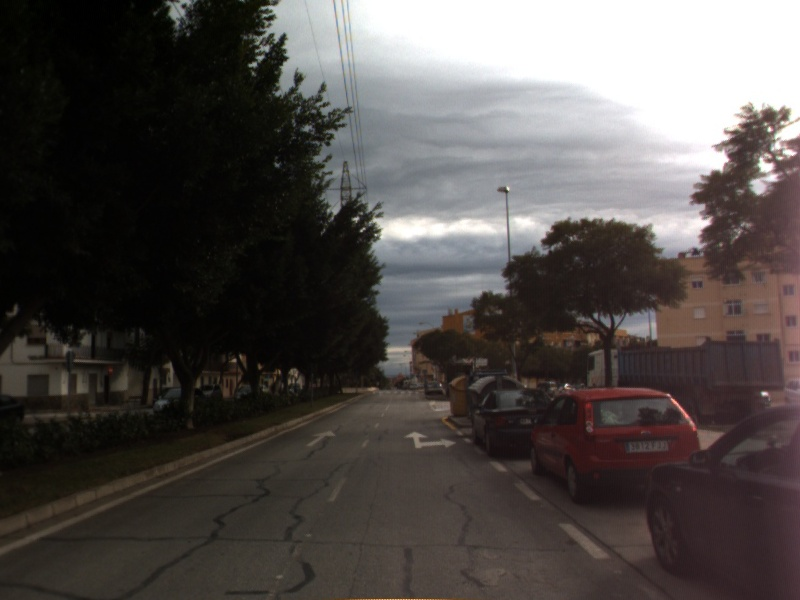STRAIGHT: (303, 427, 339, 448)
STRAIGHT_RIGHT: (402, 429, 459, 450)
